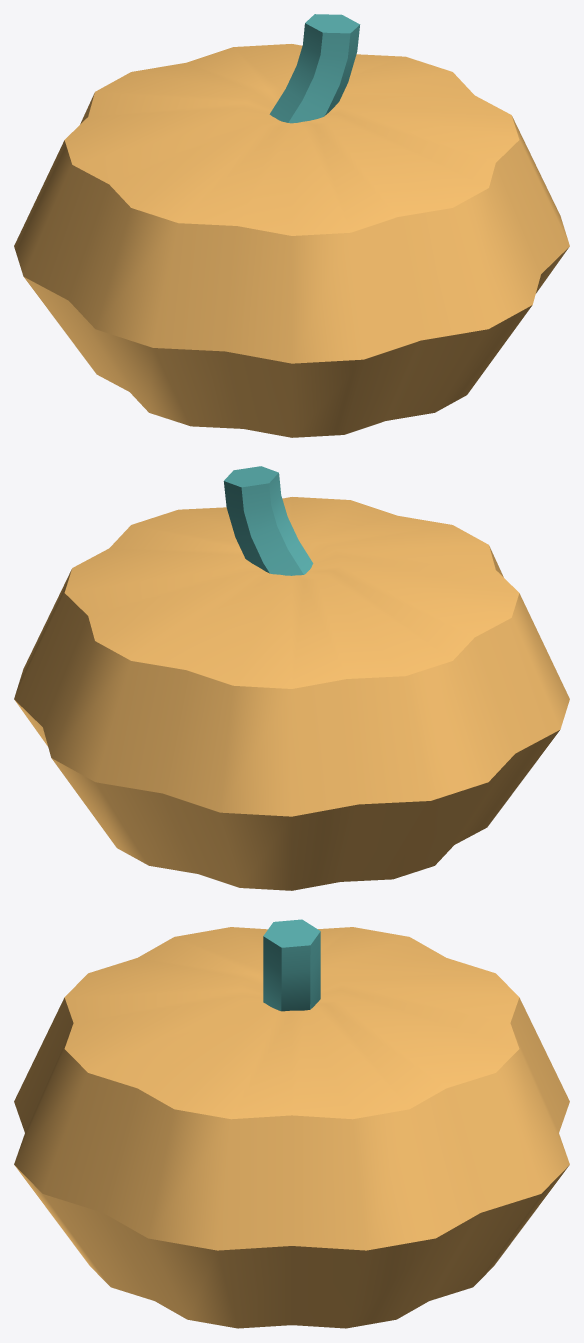
File: Pumpkin.fbx
3 renders of one model, top to bottom at view 1: azimuth 30°, elevation 25°; view 2: azimuth 150°, elevation 25°; view 3: azimuth 270°, elevation 25°, orthographic. The views are drawn at different scales.
Visible parts, largest first — view 1: Pumpkin; view 2: Pumpkin; view 3: Pumpkin.
Part boxes in pixels (x1,y1,x2,y2): Pumpkin: (14, 14, 569, 437); Pumpkin: (14, 466, 569, 890); Pumpkin: (14, 919, 569, 1328).
Size of the model in its own units: 2.29 by 1.61 by 2.29.
